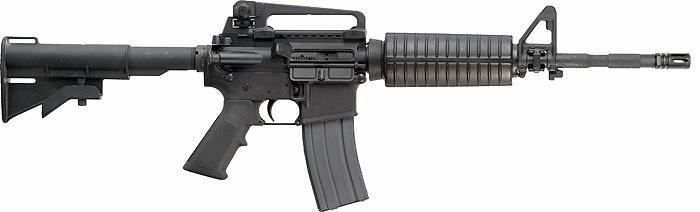blood: (5, 1, 698, 212)
